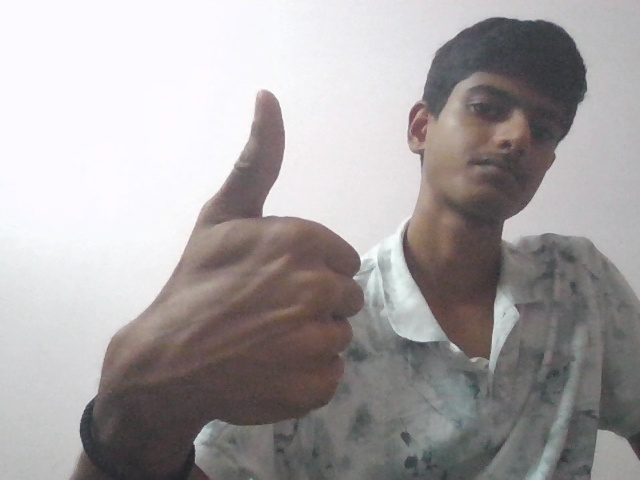thanks: (105, 75, 368, 431)
